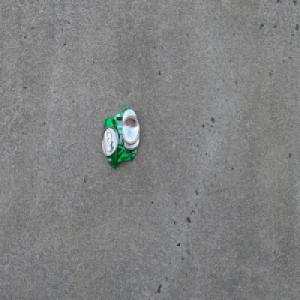SodaCan: (101, 106, 140, 169)
